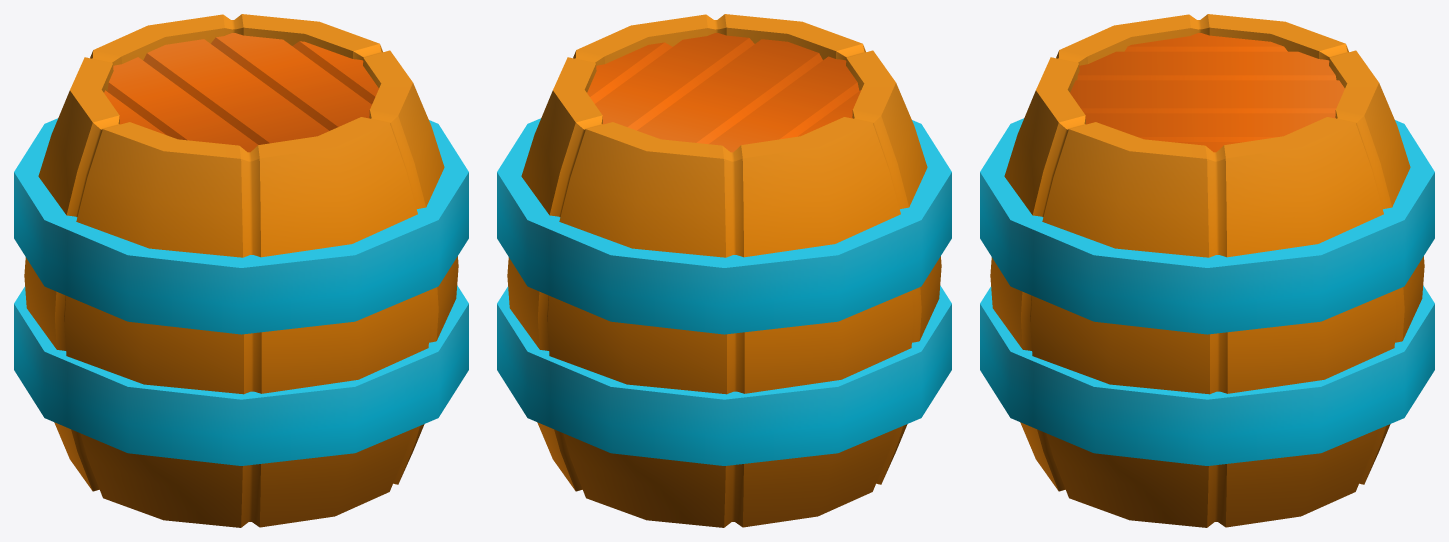
File: Prop_Wooden_Barrel_01.fbx
3 views of the same model, side by side, from view 1: azimuth 30°, elevation 25°; view 2: azimuth 150°, elevation 25°; view 3: azimuth 270°, elevation 25° (orthographic).
Parts seen in each view (by area): view 1: Prop_Wooden_Barrel_01; view 2: Prop_Wooden_Barrel_01; view 3: Prop_Wooden_Barrel_01.
Part boxes in pixels (bbox=[...]): Prop_Wooden_Barrel_01: bbox=[14, 14, 468, 527]; Prop_Wooden_Barrel_01: bbox=[497, 14, 951, 527]; Prop_Wooden_Barrel_01: bbox=[980, 14, 1434, 527].
Size of the model in its own units: 127 by 113 by 127.
